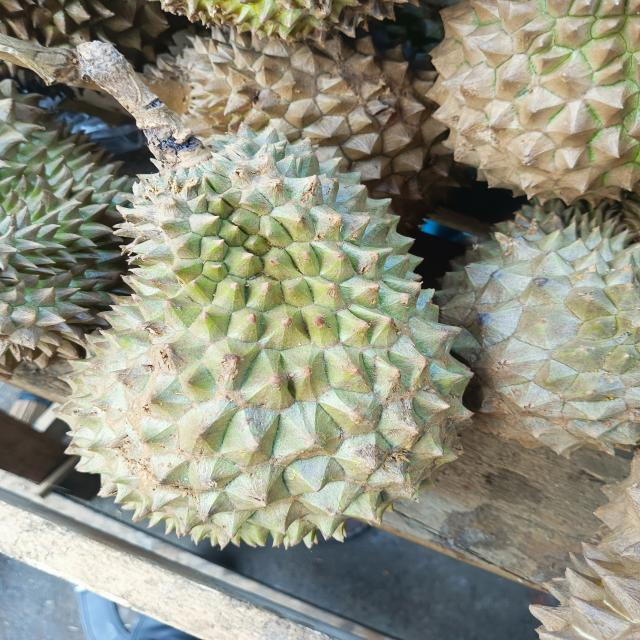mature: (58, 125, 490, 546), (147, 28, 443, 202), (436, 205, 640, 455), (430, 0, 640, 204), (0, 80, 132, 377), (0, 203, 31, 412)
